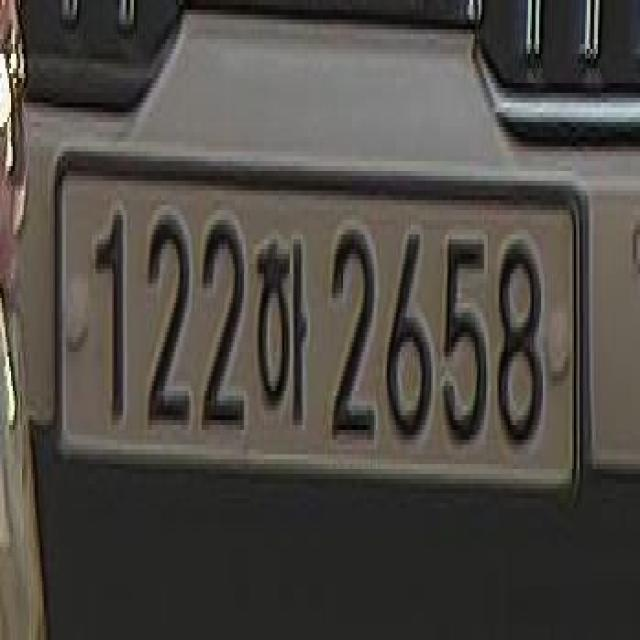illegal_plate: (50, 134, 581, 515)
